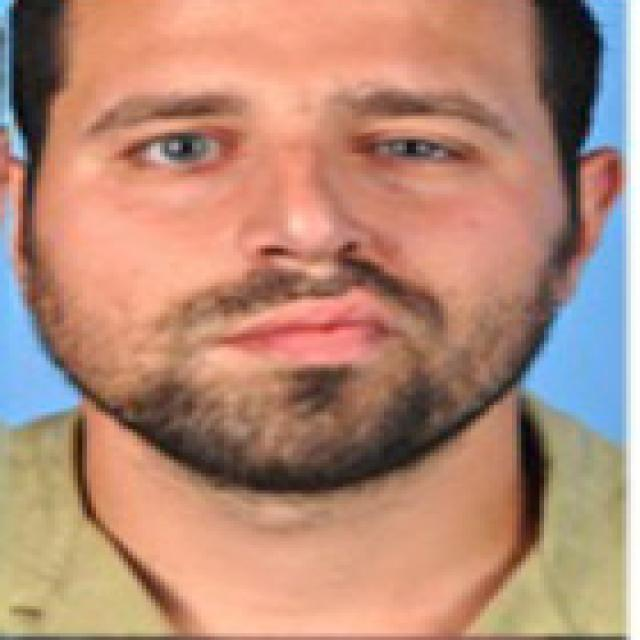stroke_face: (12, 0, 612, 492)
